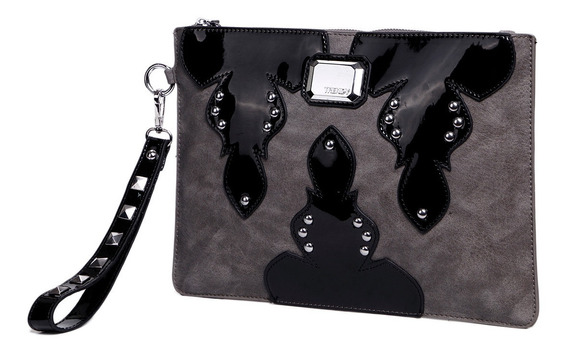cartera: (143, 17, 542, 330)
